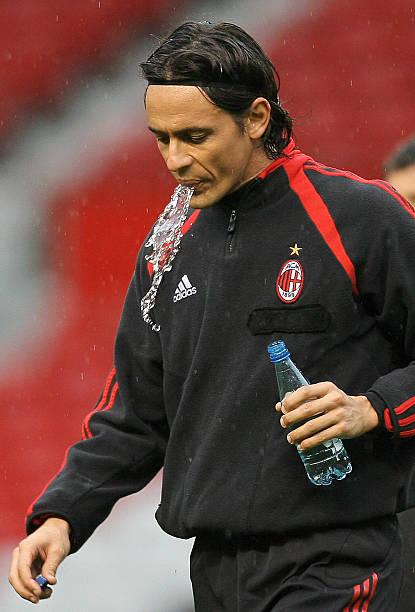Spitting: (92, 16, 316, 240)
